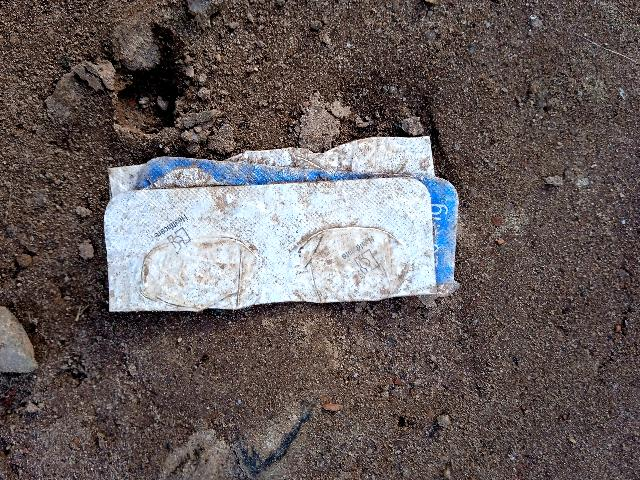medicine: (101, 146, 465, 311)
